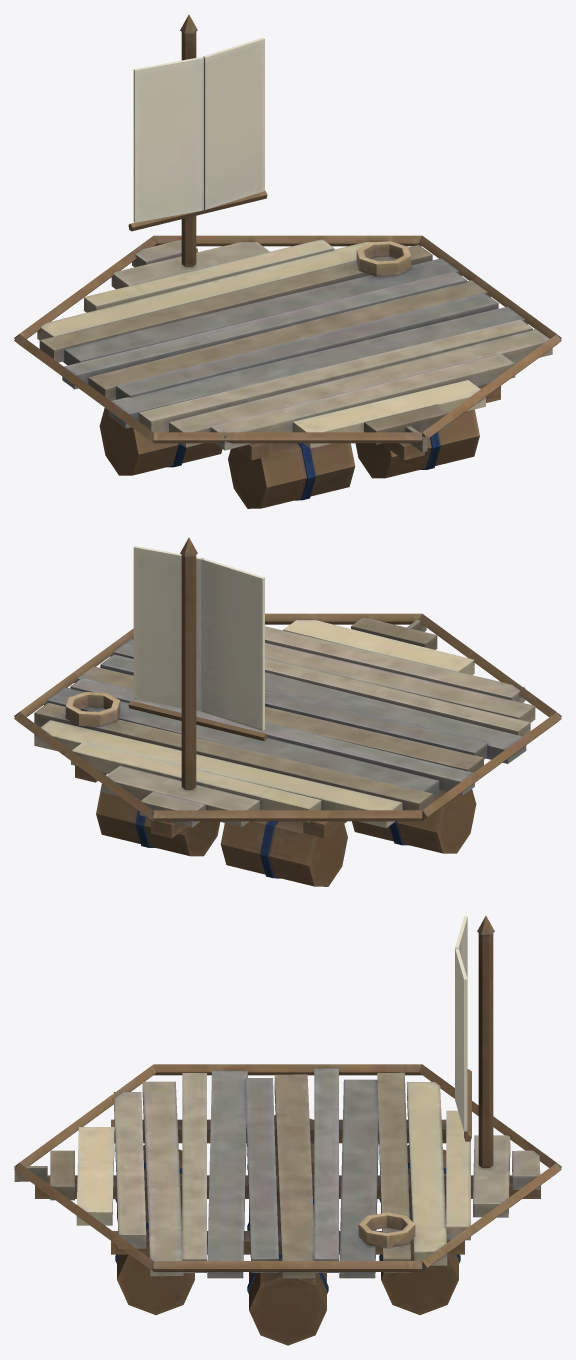
The model's file is raft-a-age1.glb.
The picture shows the model from 3 angles, top to bottom: view 1: azimuth 30°, elevation 25°; view 2: azimuth 150°, elevation 25°; view 3: azimuth 270°, elevation 25°; orthographic projection.
Visible parts, largest first — view 1: raft-a-age1; view 2: raft-a-age1; view 3: raft-a-age1.
Boxes of the visible parts, bbox=[...] form: raft-a-age1: bbox=[14, 14, 561, 508]; raft-a-age1: bbox=[14, 537, 561, 886]; raft-a-age1: bbox=[14, 916, 561, 1345].
Size of the model in its own units: 1.59 by 1.29 by 1.83.
Materials: 1 (1 with a texture image).
